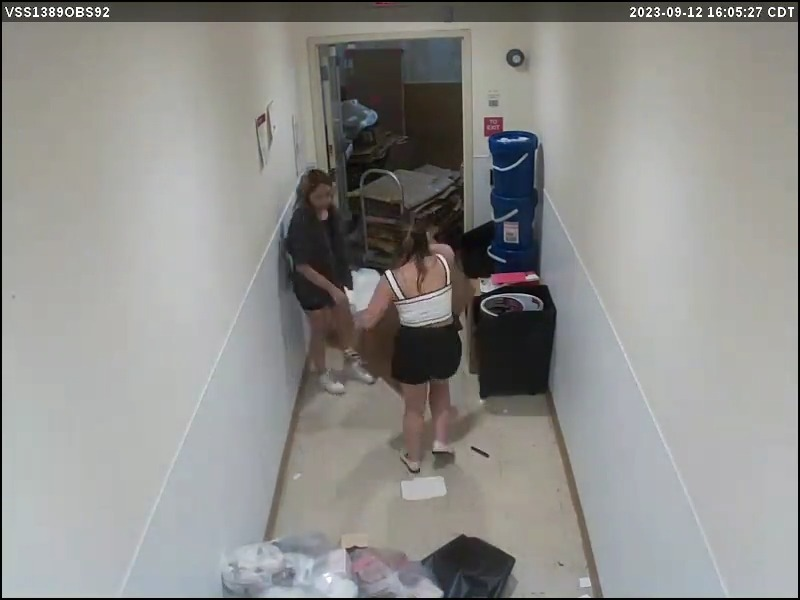No-gloves: (324, 281, 352, 310)
